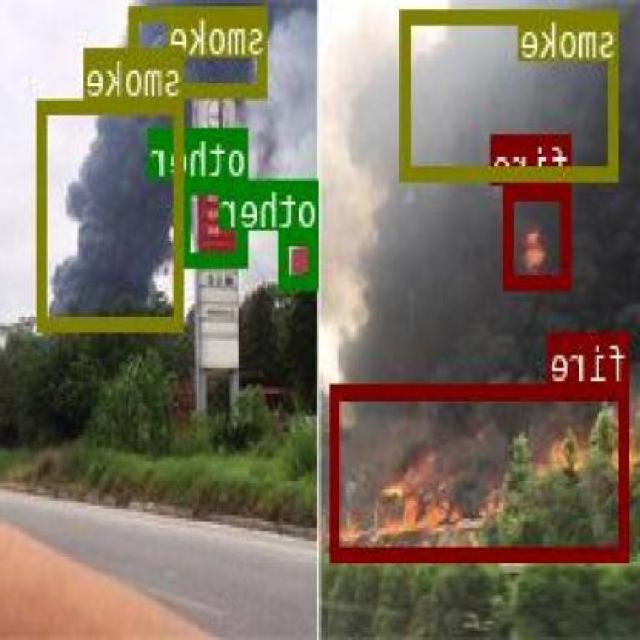Fire: (332, 383, 631, 557), (505, 184, 573, 288)
Smoke: (403, 9, 620, 178), (40, 99, 186, 328), (133, 2, 269, 96)
